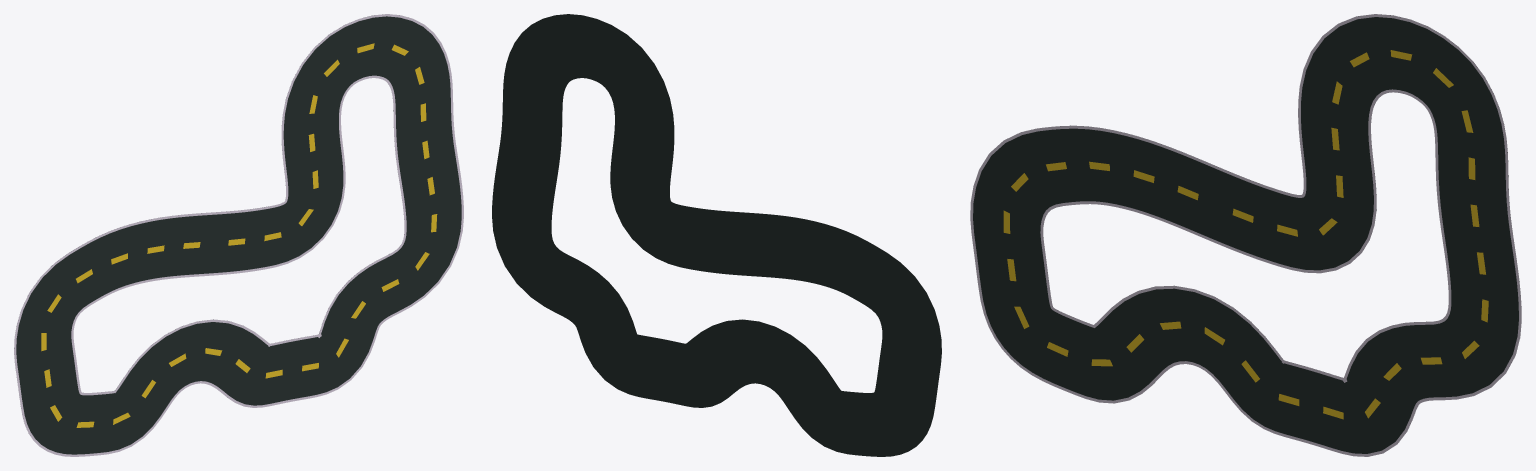
File: track.obj
3 renders of one model, left to right at view 1: azimuth 30°, elevation 25°; view 2: azimuth 150°, elevation 25°; view 3: azimuth 330°, elevation 25°, orthographic. The views are drawn at different scales.
Size of the model in its own units: 8.06 by 6.42 by 0.002.
